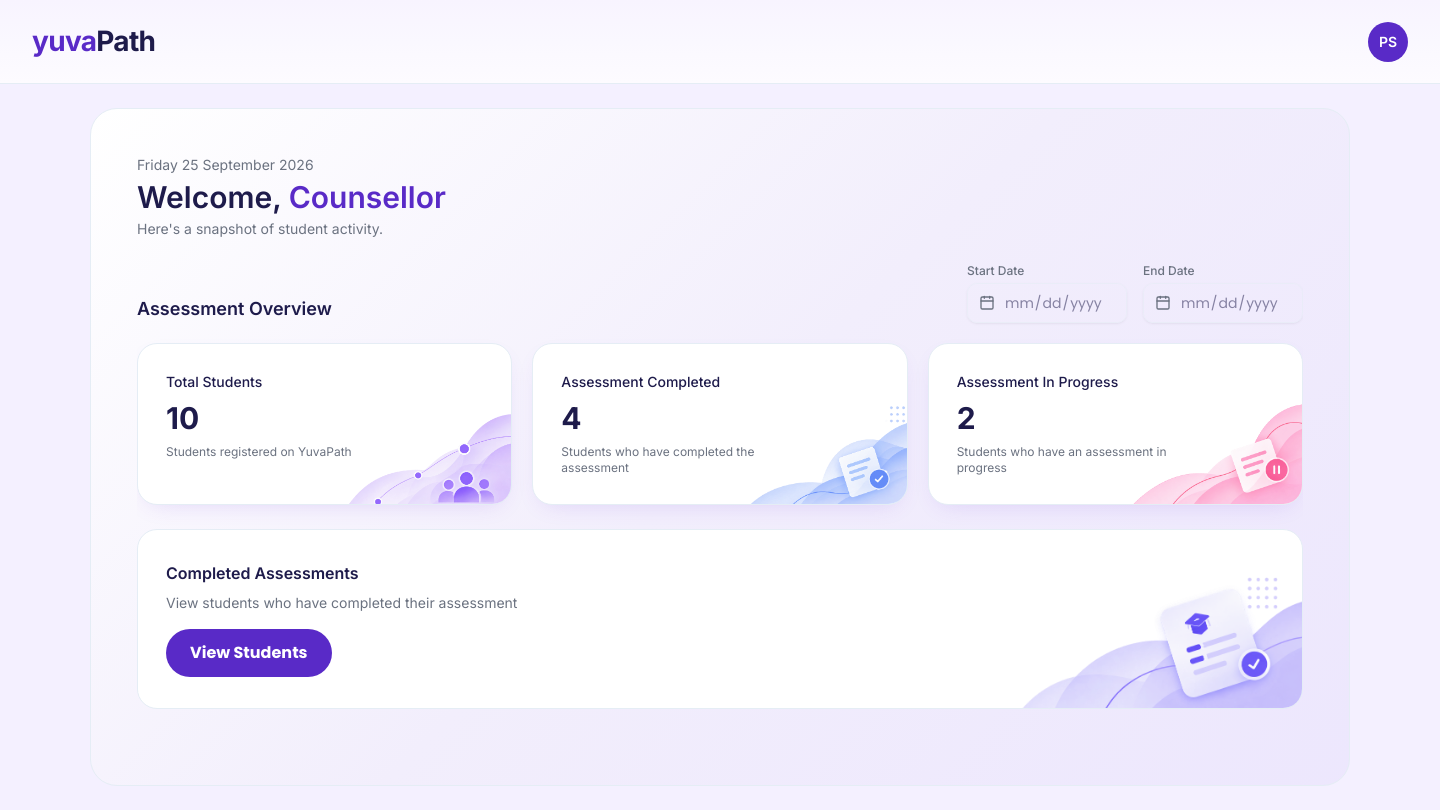
Test: AppHeader on CounselorHomePage — avatar and sign out › shows Sign out for a logged-in counselor (previously never rendered — AppHeader used to check the unrelated student session)
Click the button with aria-label "Account menu".
click(1388, 42)  # box left=1368, top=22, right=1408, bottom=62
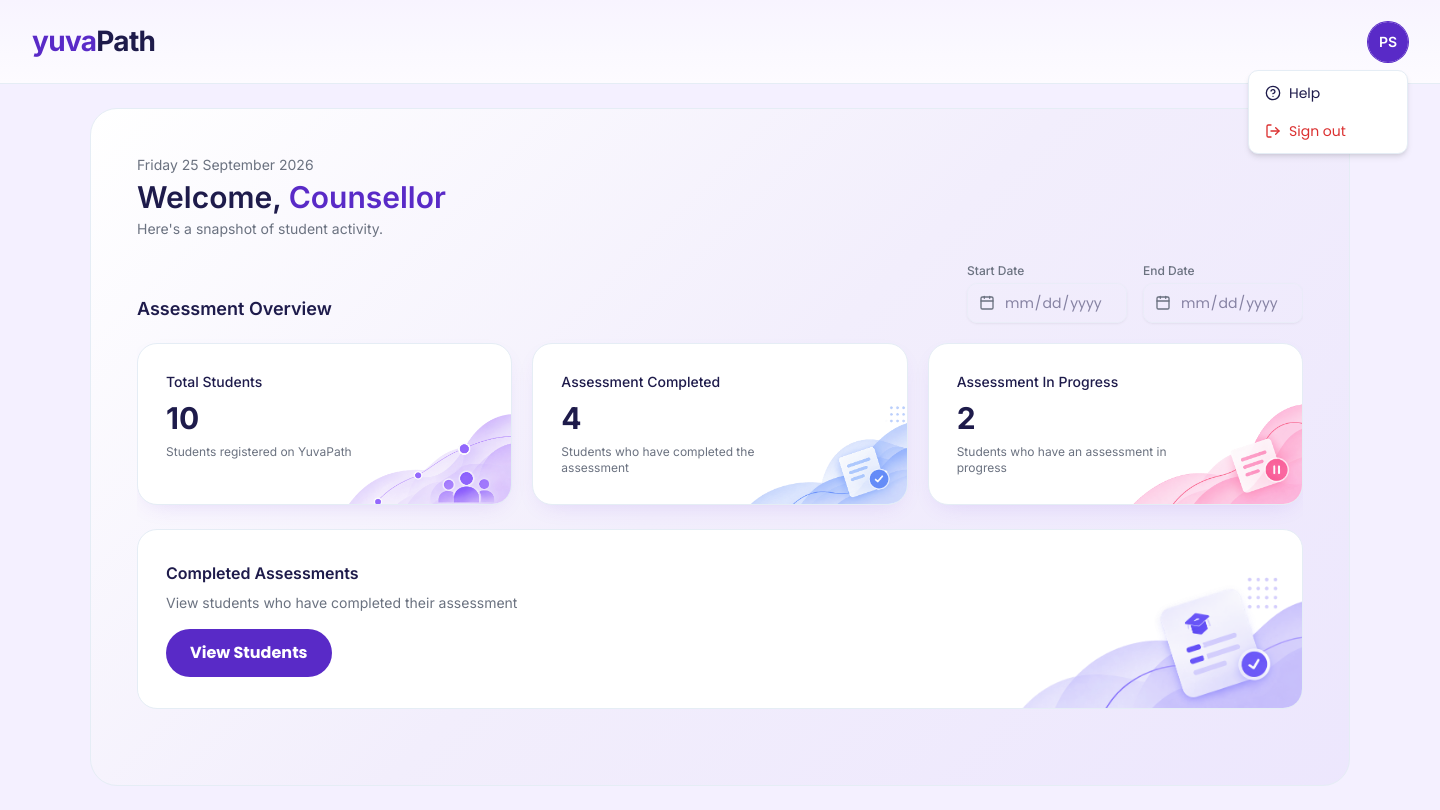
expect the menu items read "Help", "Sign out", in this order: met, box left=1253, top=74, right=1403, bottom=110; left=1253, top=112, right=1403, bottom=148
